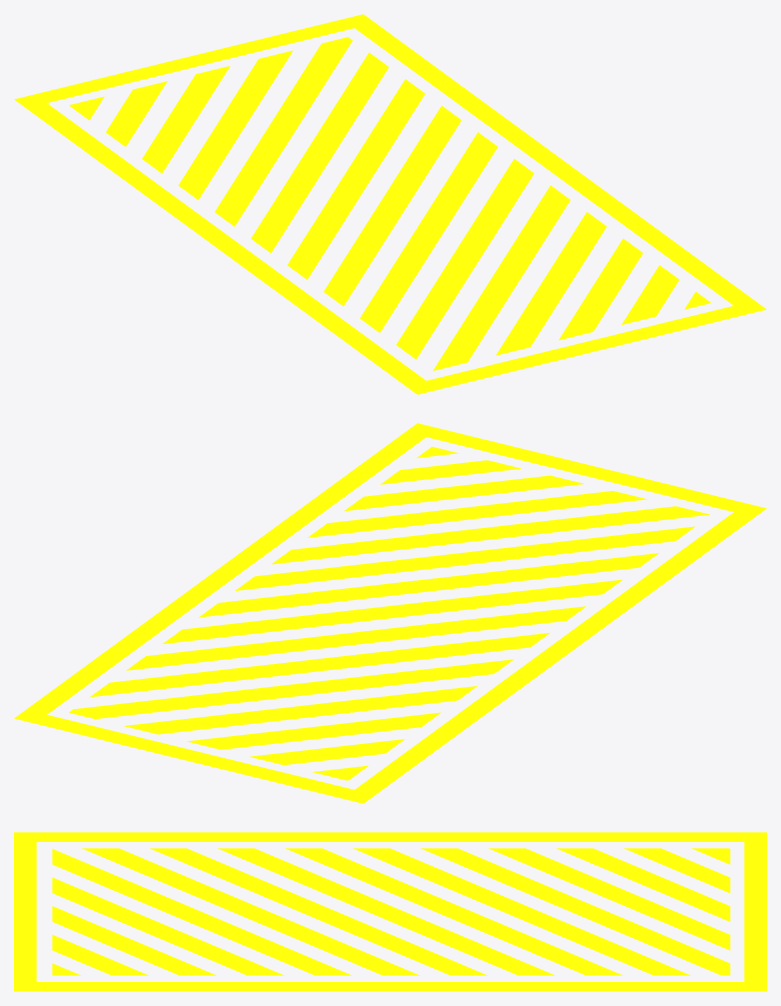
Rendered from RefuelSpot2.fbx.
3 views of the same model, one above another, from view 1: azimuth 30°, elevation 25°; view 2: azimuth 150°, elevation 25°; view 3: azimuth 270°, elevation 25° (orthographic). The views are drawn at different scales.
Parts seen in each view (by area): view 1: Plane.002; view 2: Plane.002; view 3: Plane.002.
Part boxes in pixels (left/top/right/bottom): Plane.002: left=14, top=14, right=766, bottom=394; Plane.002: left=14, top=423, right=766, bottom=803; Plane.002: left=14, top=832, right=766, bottom=991.
Size of the model in its own units: 250 by 8.15e-05 by 500.
